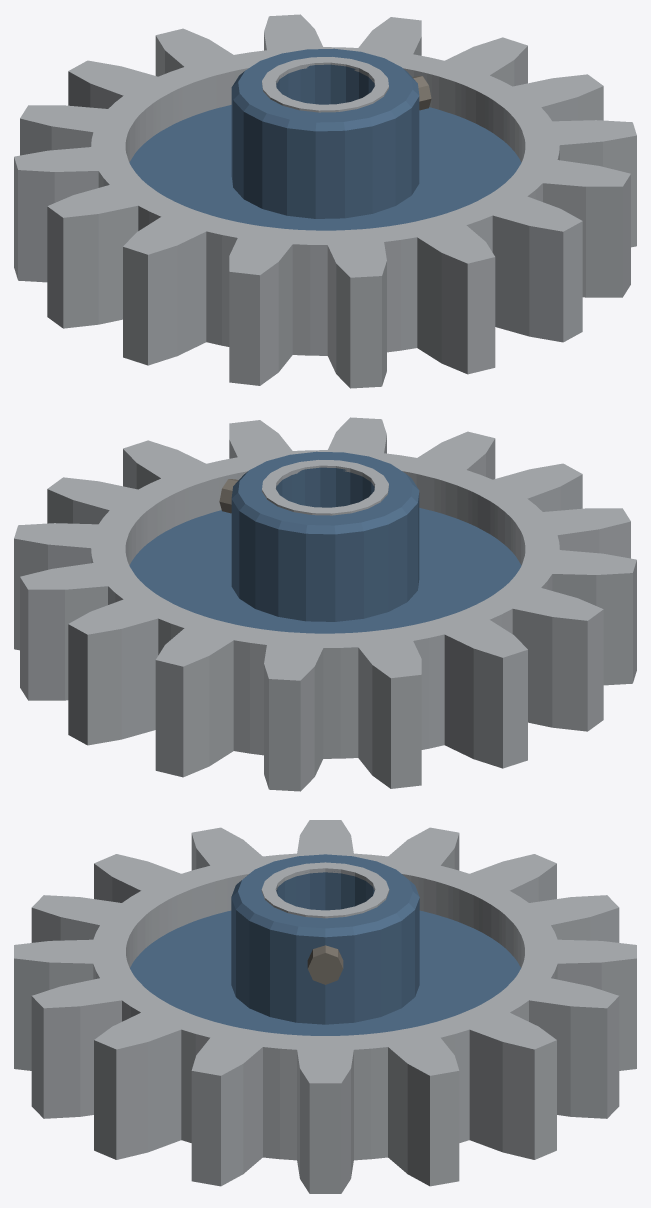
File: gear_basic.glb
3 renders of one model, top to bottom at view 1: azimuth 30°, elevation 25°; view 2: azimuth 150°, elevation 25°; view 3: azimuth 270°, elevation 25°, orthographic.
Visible parts, largest first — view 1: gear_basic; view 2: gear_basic; view 3: gear_basic.
Part boxes in pixels (box(x1,y1,x2,y2)): gear_basic: box(14, 14, 636, 388); gear_basic: box(14, 417, 636, 791); gear_basic: box(14, 820, 636, 1193).
Size of the model in its own units: 0.1124 by 0.0344 by 0.1124.
